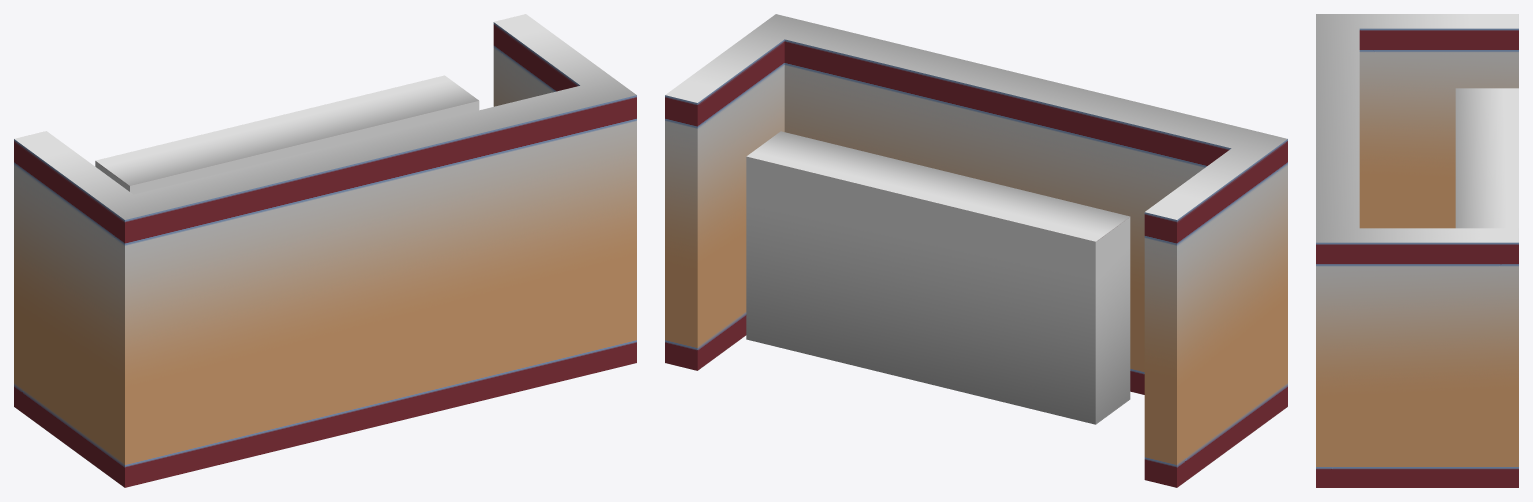
Rendered from Lamp_T.FBX.
The picture shows the model from 3 angles, left to right: view 1: azimuth 30°, elevation 25°; view 2: azimuth 150°, elevation 25°; view 3: azimuth 270°, elevation 25°; orthographic projection. The views are drawn at different scales.
Parts seen in each view (by area): view 1: Lamp_T; view 2: Lamp_T; view 3: Lamp_T.
Boxes of the visible parts, x1,y1,x2,y2 form: Lamp_T: (14, 14, 636, 487); Lamp_T: (665, 14, 1287, 487); Lamp_T: (1316, 14, 1518, 487).
Size of the model in its own units: 15.75 by 7.87 by 5.91.
